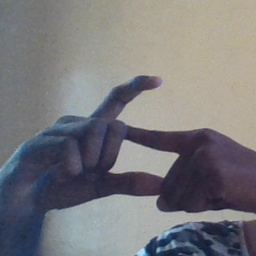E: (75, 73, 213, 204)
